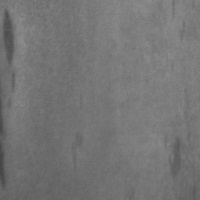inclusion: (0, 6, 24, 111), (161, 132, 189, 183), (64, 130, 87, 169), (172, 17, 190, 45)
